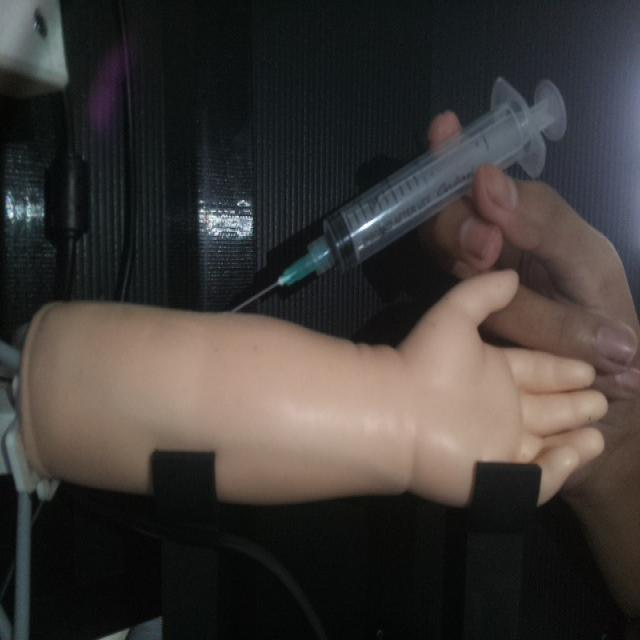Above 30 degrees: (227, 72, 568, 315)
